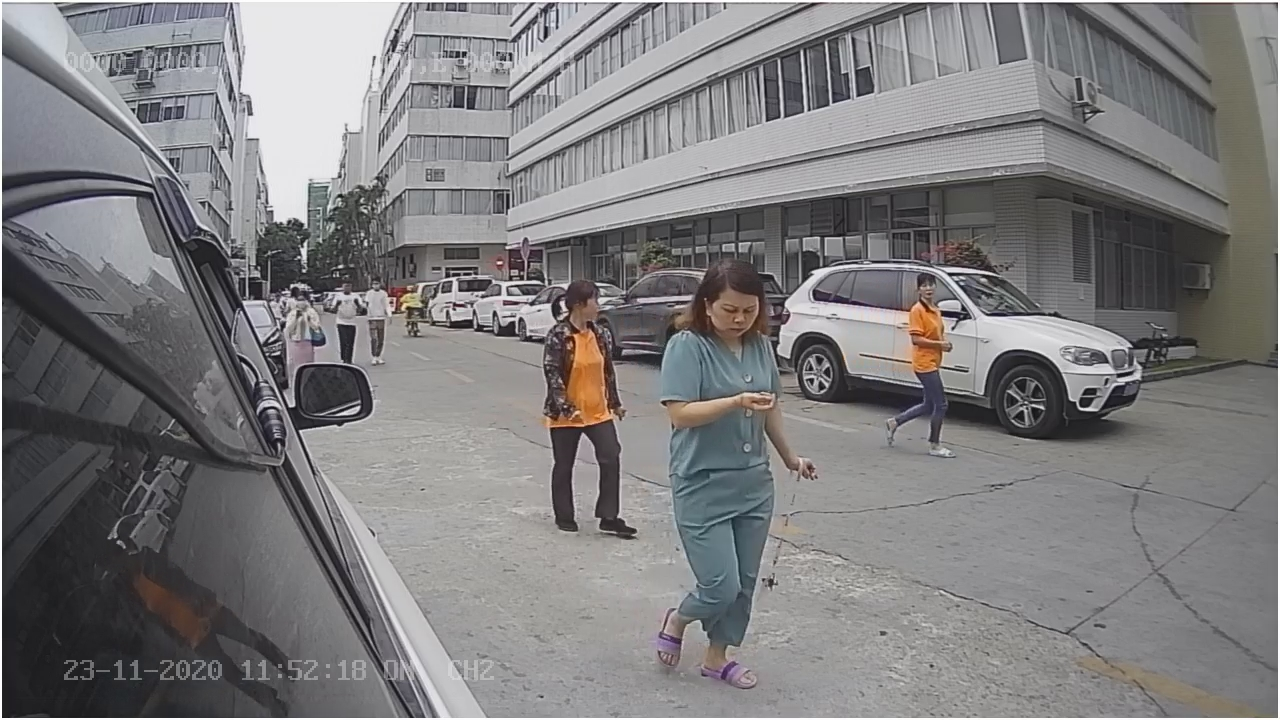person: (651, 259, 788, 689), (539, 272, 630, 542), (888, 260, 956, 464)
